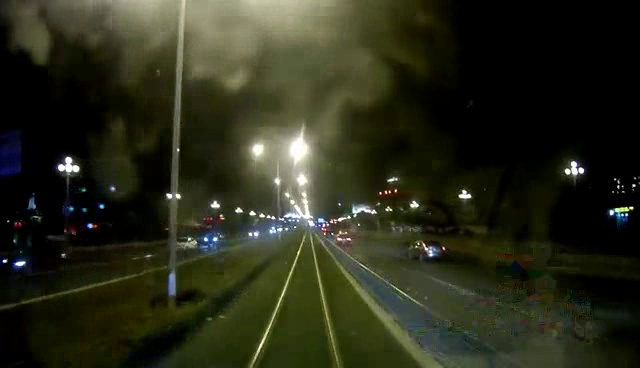car: (408, 238, 453, 265)
